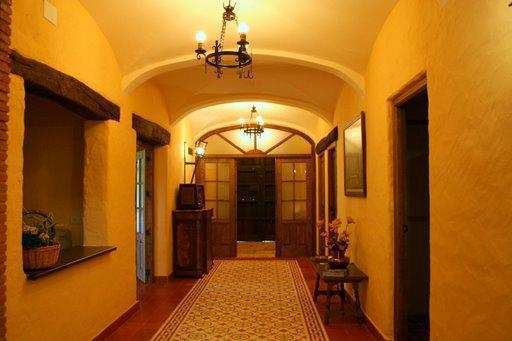Puerta: (201, 160, 314, 255), (137, 144, 150, 290)
